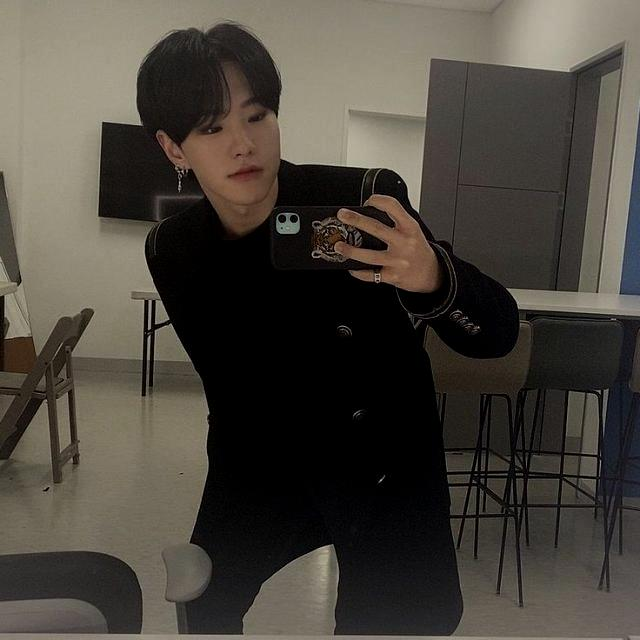lens: (275, 212, 301, 236)
phone: (270, 202, 410, 272)
